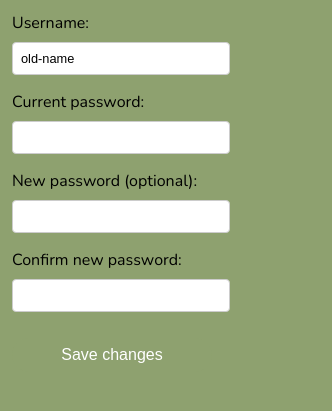
Scenario: account settings › updates username without changing password and stores the refreshed token
The width and height of the screenshot is (332, 411).
Replace the text in the field labelled "Username:" with "new-name": (121, 58) [12,42,230,75]
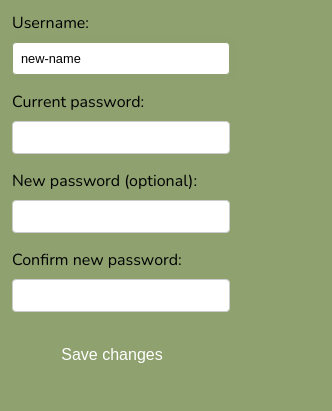
In the password field labelled "Current password:": (121, 138) [12,121,230,154], type "old-password"
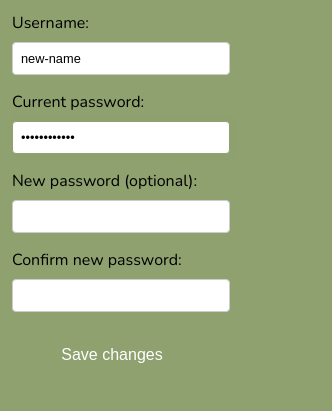
Click the button "Save changes": click(112, 355) [12,338,212,372]
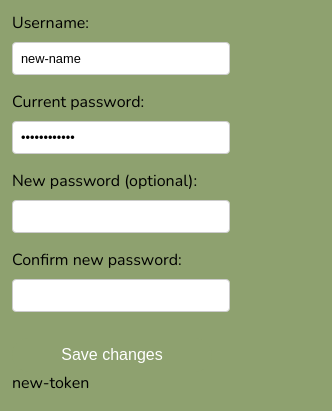
Check: the text "new-token" is shown, box [12,372,89,394]
Check: the text with test id "token" reads "new-token", box [12,372,89,394]
